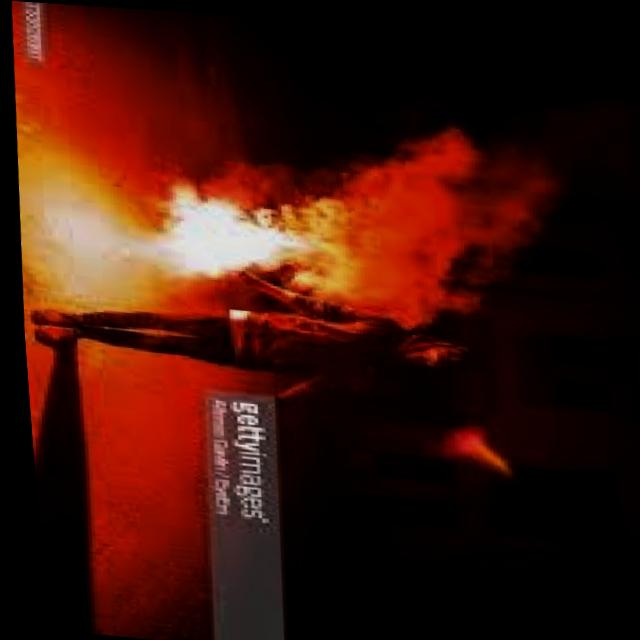helmet: (28, 144, 336, 324)
no_helmet: (300, 99, 598, 328)
